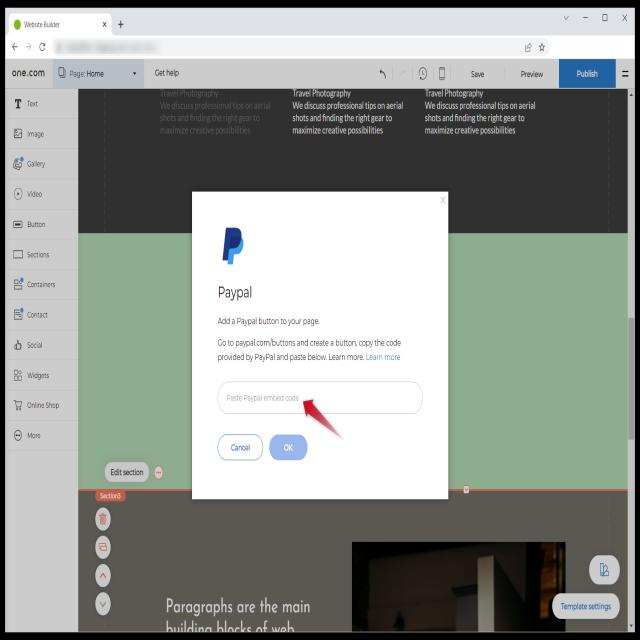paypal: (223, 225, 244, 268)
paypal_txt: (218, 284, 255, 302), (237, 317, 257, 326), (255, 353, 275, 362)
